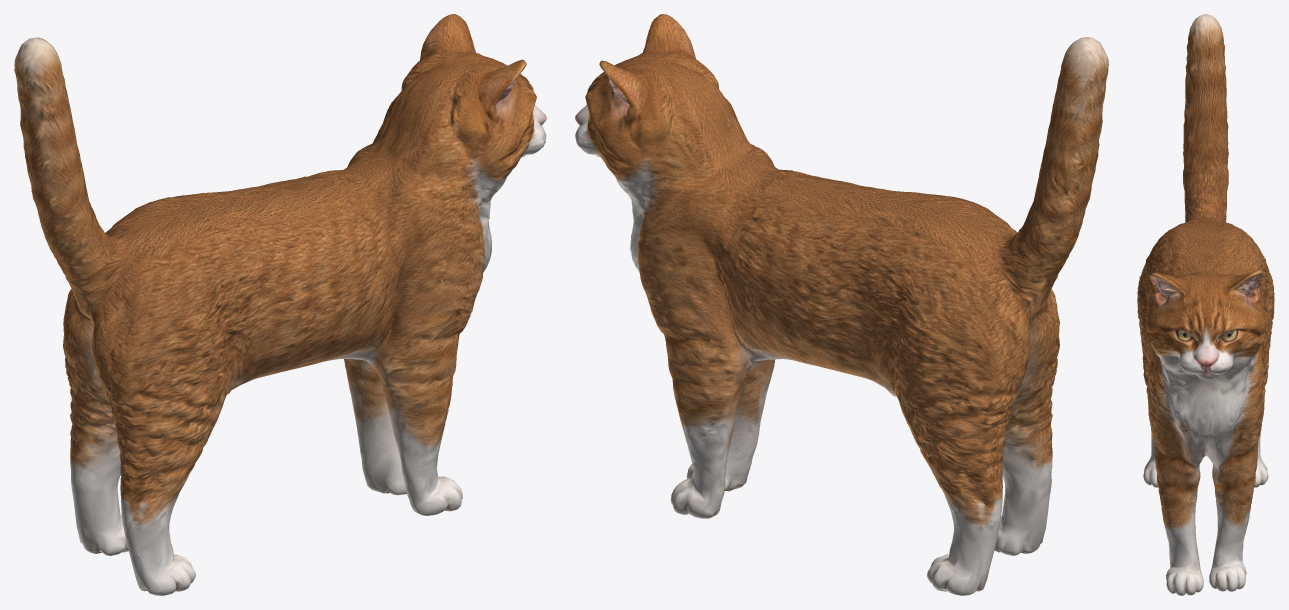
File: STOURCAT.glb
The picture shows the model from 3 angles, left to right: view 1: azimuth 30°, elevation 25°; view 2: azimuth 150°, elevation 25°; view 3: azimuth 270°, elevation 25°; orthographic projection. The views are drawn at different scales.
Visible parts, largest first — view 1: tripo_node_b90aba78-688a-4781-9b2c-dba1c9ac1d4f; view 2: tripo_node_b90aba78-688a-4781-9b2c-dba1c9ac1d4f; view 3: tripo_node_b90aba78-688a-4781-9b2c-dba1c9ac1d4f.
Boxes of the visible parts, x1,y1,x2,y2 form: tripo_node_b90aba78-688a-4781-9b2c-dba1c9ac1d4f: (14,14,546,595); tripo_node_b90aba78-688a-4781-9b2c-dba1c9ac1d4f: (575,14,1108,595); tripo_node_b90aba78-688a-4781-9b2c-dba1c9ac1d4f: (1137,14,1274,595).
Bounding box in the file's own units: 0.9981 × 0.9999 × 0.2907.
Materials: 1 (1 with a texture image).
